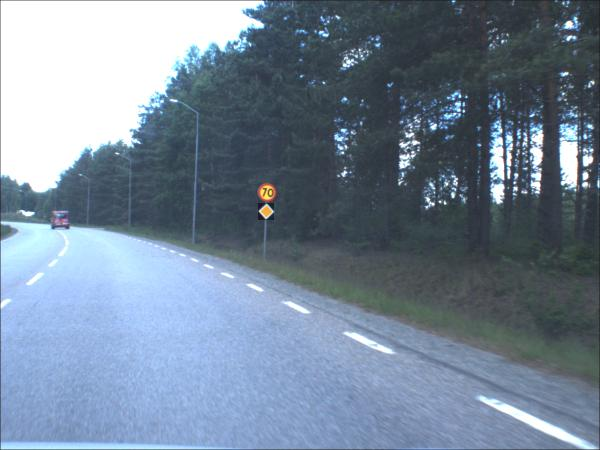70_SIGN: (259, 184, 280, 204)
PRIORITY_ROAD: (259, 204, 276, 222)
